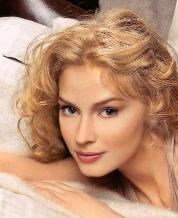face: (57, 94, 123, 163)
